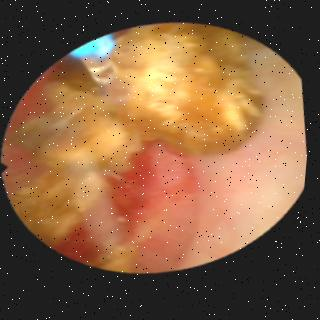fiber: (72, 34, 112, 55)
stone: (19, 26, 265, 238), (109, 243, 136, 268)
tissue: (75, 56, 310, 265)
